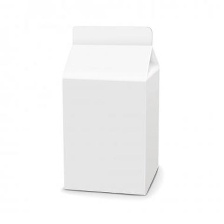carton: (59, 21, 165, 199)
